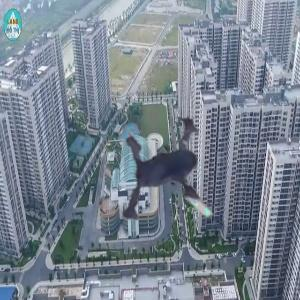drone: (86, 98, 275, 287)
